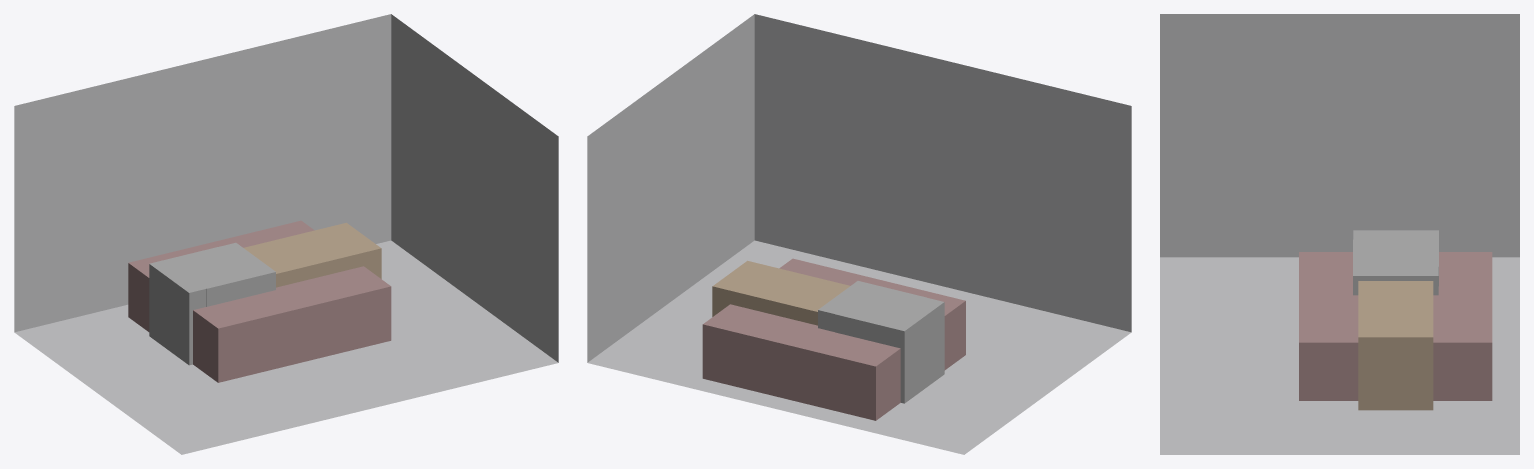
File: optimised_layout.glb
The picture shows the model from 3 angles, left to right: view 1: azimuth 30°, elevation 25°; view 2: azimuth 150°, elevation 25°; view 3: azimuth 270°, elevation 25°; orthographic projection. The views are drawn at different scales.
Visible parts, largest first — view 1: room, bed, desk, dustbin, wardrobe; view 2: room, bed, dustbin, desk, wardrobe; view 3: room, bed, desk, wardrobe, dustbin.
Part boxes in pixels (left/top/right/bottom): room: left=14, top=14, right=558, bottom=454; bed: left=128, top=220, right=391, bottom=382; desk: left=244, top=222, right=381, bottom=287; dustbin: left=149, top=247, right=219, bottom=365; wardrobe: left=176, top=242, right=275, bottom=306; room: left=587, top=14, right=1131, bottom=454; bed: left=702, top=258, right=965, bottom=420; dustbin: left=835, top=291, right=944, bottom=403; desk: left=712, top=260, right=849, bottom=325; wardrobe: left=818, top=281, right=926, bottom=331; room: left=1160, top=14, right=1519, bottom=454; bed: left=1299, top=252, right=1492, bottom=400; desk: left=1358, top=281, right=1433, bottom=410; wardrobe: left=1353, top=239, right=1438, bottom=295; dustbin: left=1353, top=230, right=1438, bottom=285.
Size of the model in its own units: 4.36 by 2.5 by 3.35.
